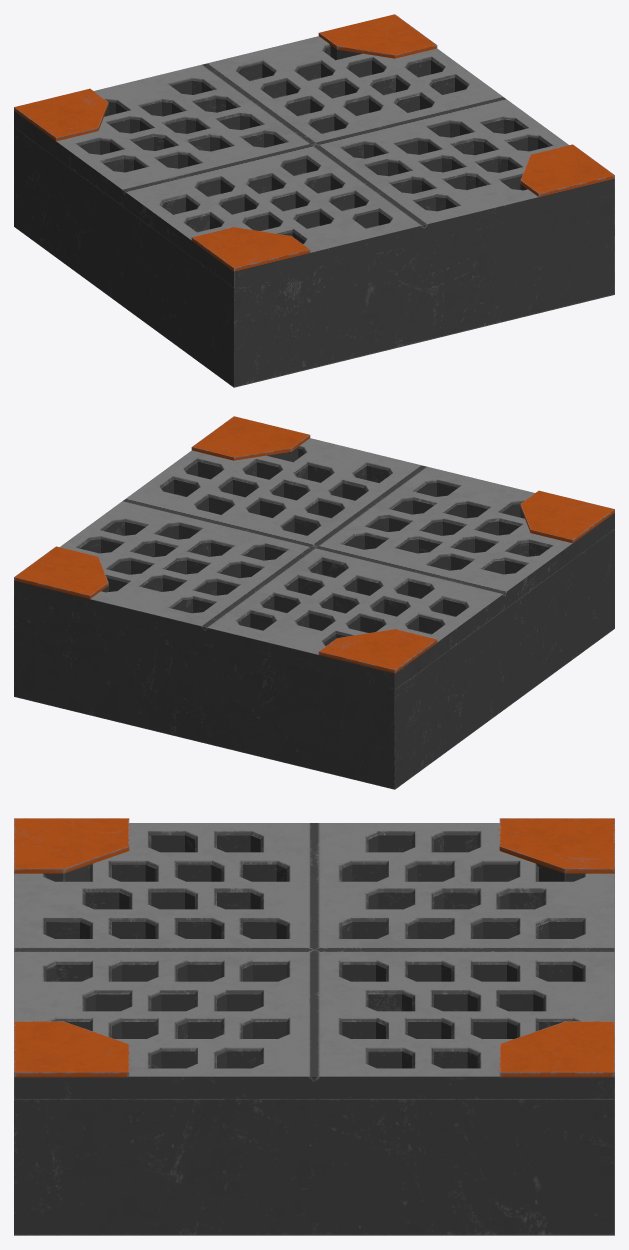
The model's file is tile_floor3.FBX.
3 renders of one model, top to bottom at view 1: azimuth 30°, elevation 25°; view 2: azimuth 150°, elevation 25°; view 3: azimuth 270°, elevation 25°, orthographic. The views are drawn at different scales.
Visible parts, largest first — view 1: tile_floor3_Top_low, tile_floor3_Btm_low; view 2: tile_floor3_Top_low, tile_floor3_Btm_low; view 3: tile_floor3_Top_low, tile_floor3_Btm_low.
Boxes of the visible parts, box(x1,y1,x2,y2) form: tile_floor3_Top_low: box(14, 14, 614, 287); tile_floor3_Btm_low: box(14, 127, 614, 387); tile_floor3_Top_low: box(14, 416, 614, 689); tile_floor3_Btm_low: box(14, 529, 614, 789); tile_floor3_Top_low: box(14, 818, 614, 1099); tile_floor3_Btm_low: box(14, 1099, 614, 1235).
Bounding box in the file's own units: 200 × 60 × 200.
Materials: 2 (2 with a texture image).
